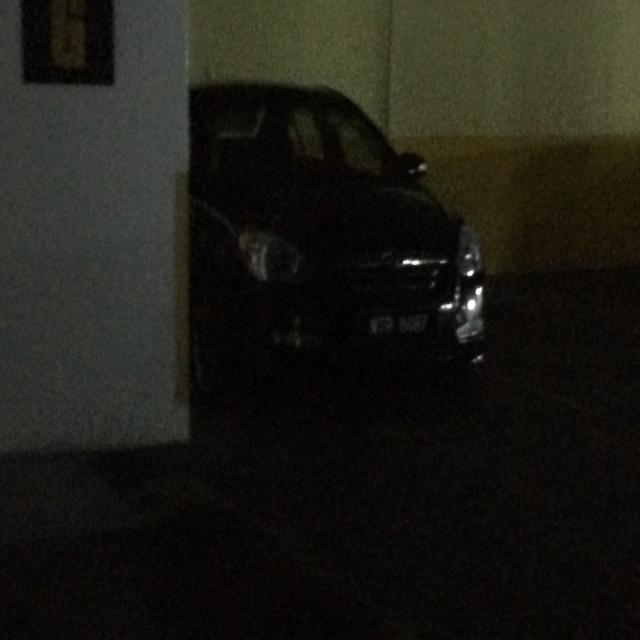Car: (160, 63, 560, 467)
